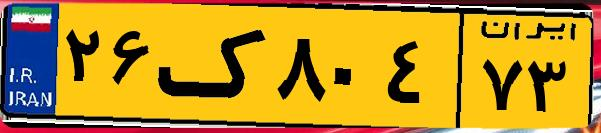0: (330, 28, 385, 110)
2: (57, 26, 110, 100)
3: (525, 38, 570, 115)
4: (385, 28, 445, 110)
6: (110, 28, 158, 98)
7: (475, 38, 525, 113)
8: (270, 28, 330, 110)
ک: (158, 12, 270, 120)
